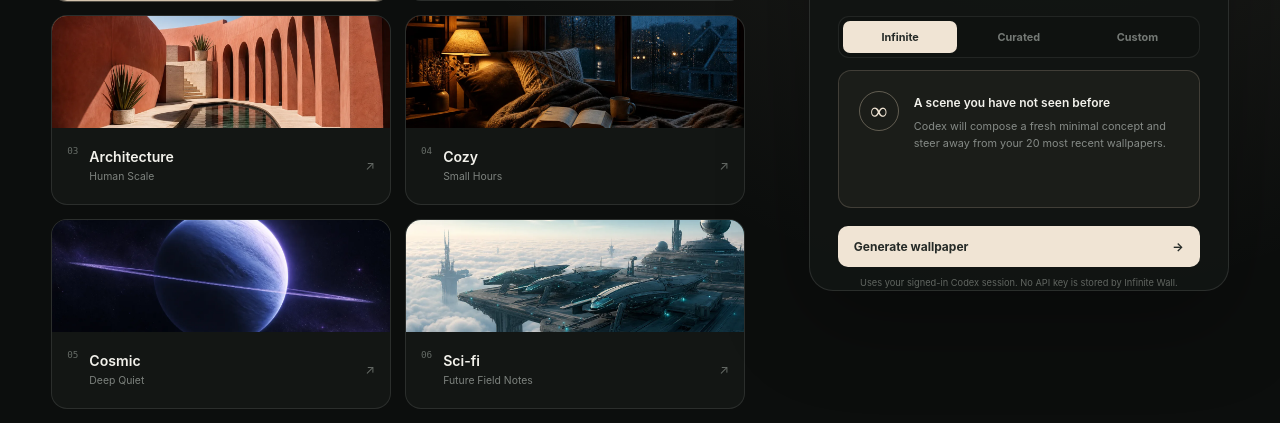
Scenario: theme selection experience › applies an imported preview and records it as the current wallpaper
(page scrolled)
Click the button "Generate wallpaper →": (911, 247) [838,226,1200,267]
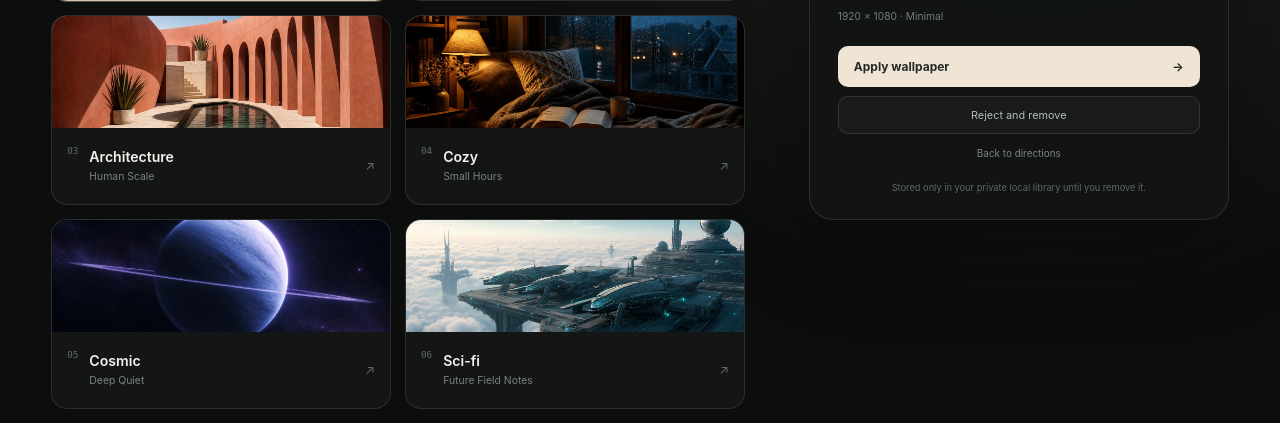
Click the button "Apply wallpaper →": (902, 67) [838,46,1200,87]
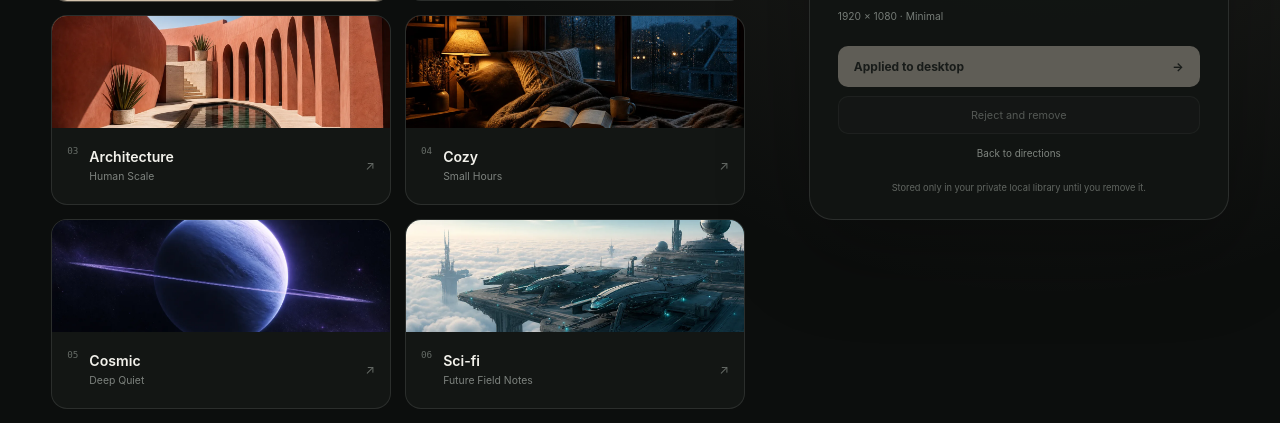
Expected: the button "Applied to desktop →" is disabled, [838,46,1200,87]
